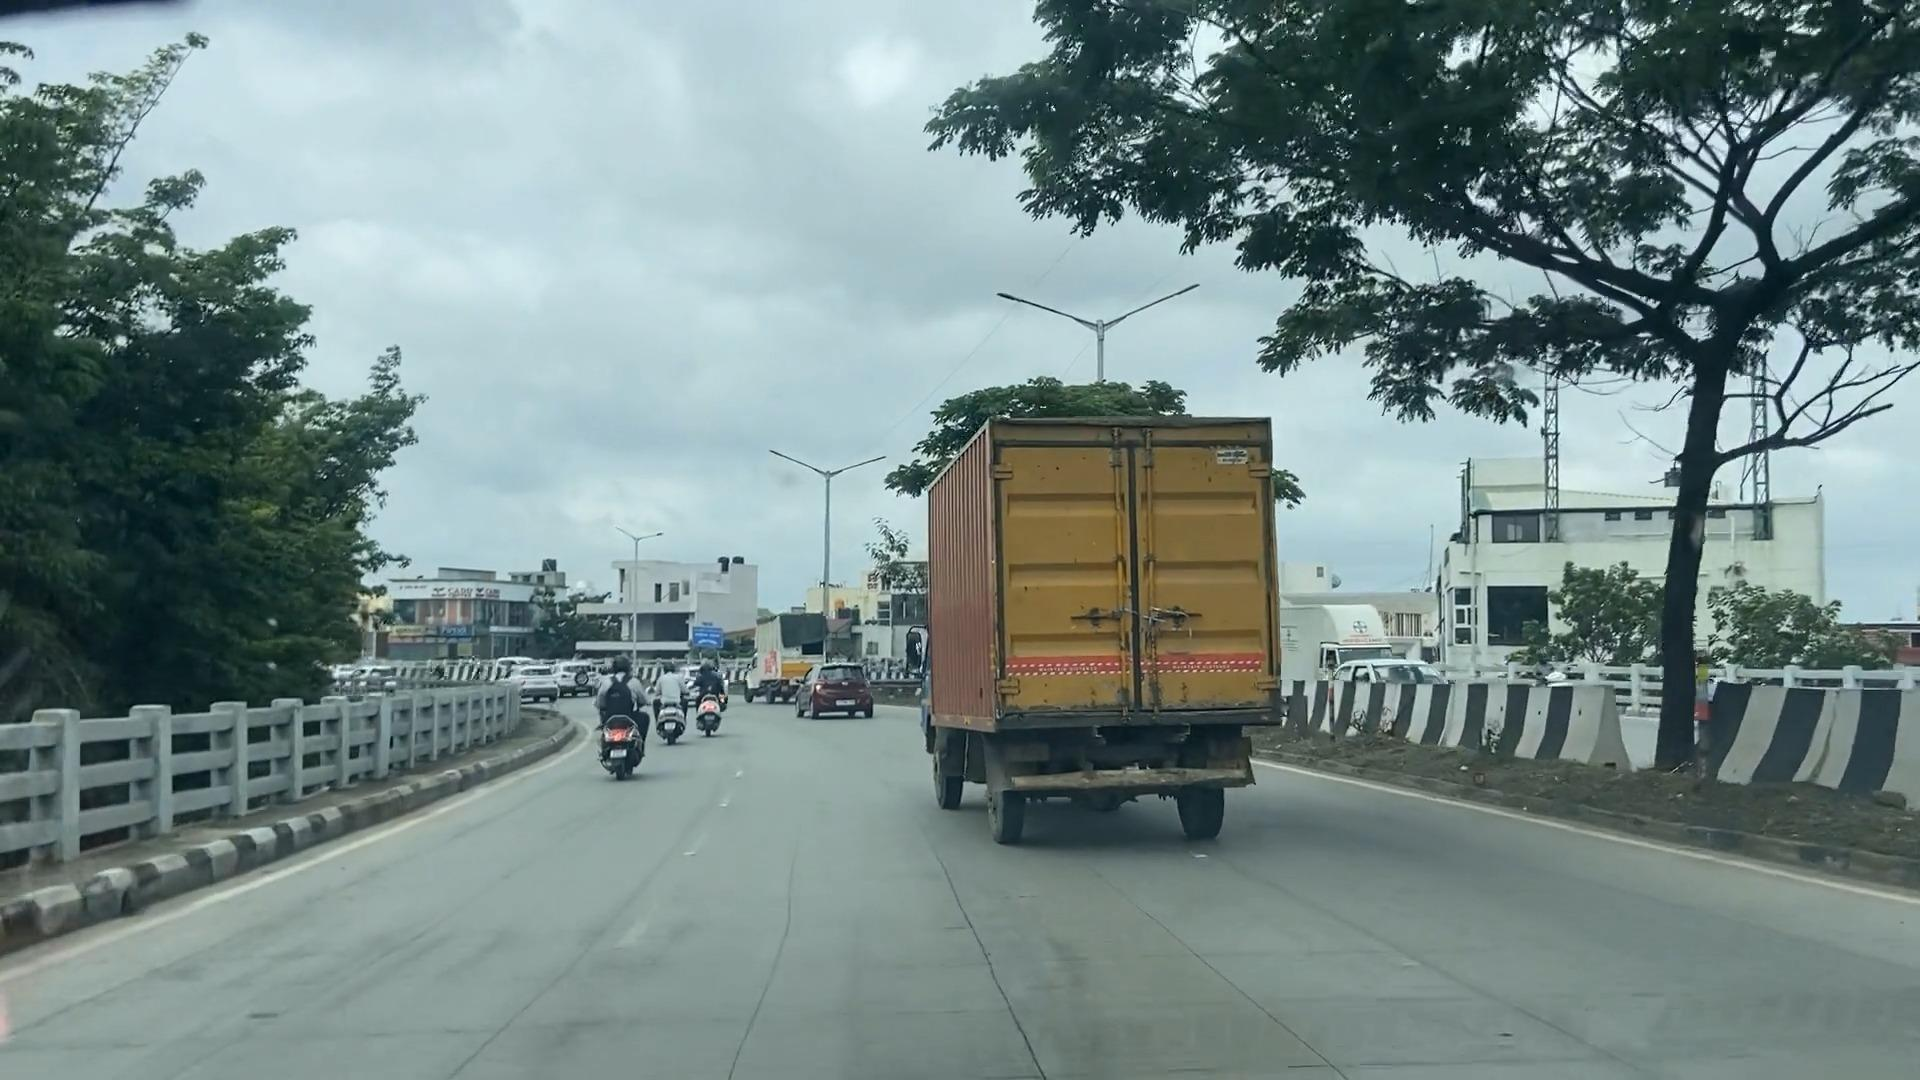HMV: (932, 398, 1263, 862)
LMV: (584, 642, 651, 787), (800, 655, 874, 727), (646, 658, 694, 761), (700, 647, 742, 744)
